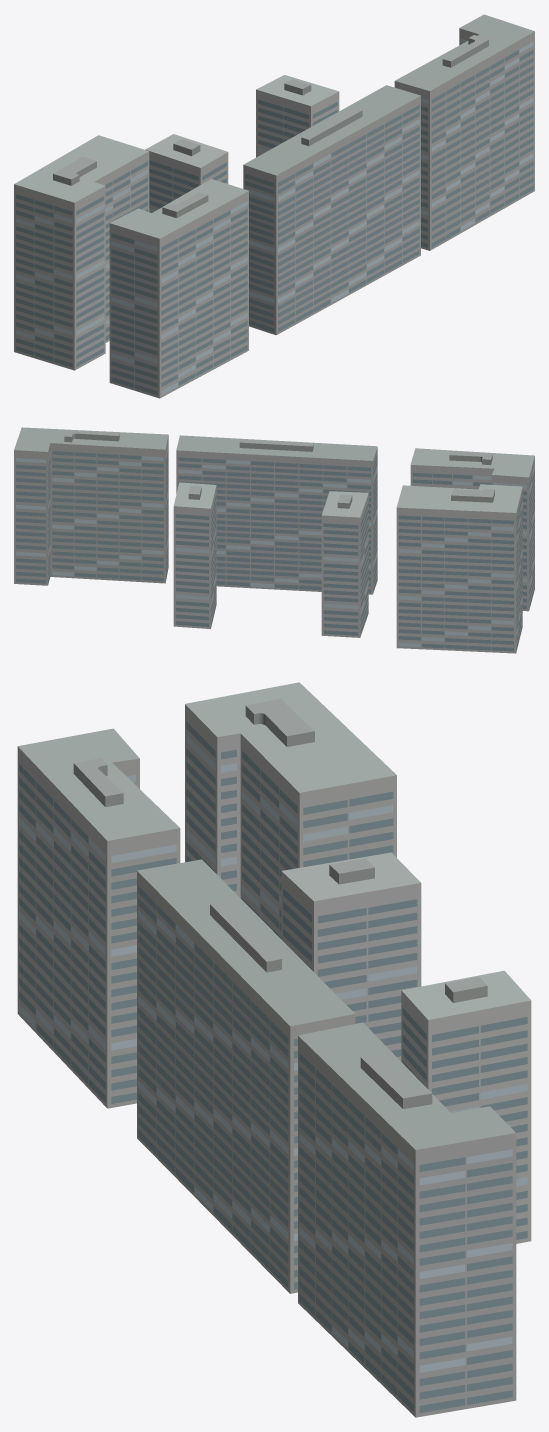
File: apt-a15885514.glb
3 renders of one model, top to bottom at view 1: azimuth 30°, elevation 25°; view 2: azimuth 150°, elevation 25°; view 3: azimuth 270°, elevation 25°, orthographic. The views are drawn at different scales.
Visible parts, largest first — view 1: apt-a15885514; view 2: apt-a15885514; view 3: apt-a15885514.
Part boxes in pixels (x1=…): apt-a15885514: x1=14, y1=14, x2=534, y2=398; apt-a15885514: x1=14, y1=427, x2=534, y2=653; apt-a15885514: x1=17, y1=682, x2=531, y2=1417.
Size of the model in its own units: 217 by 65 by 104.
